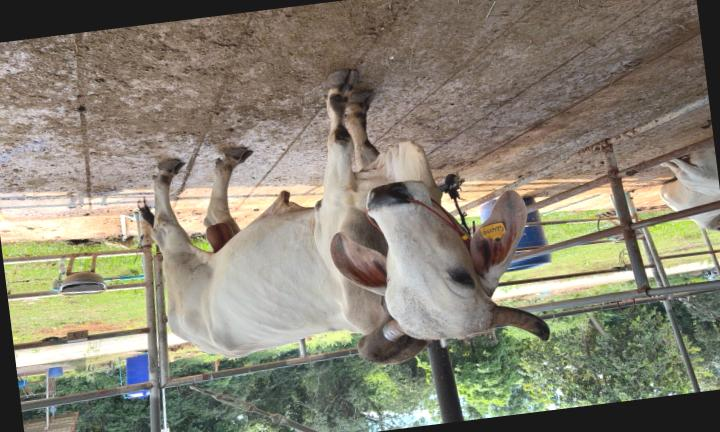Brahman: (140, 71, 549, 364)
